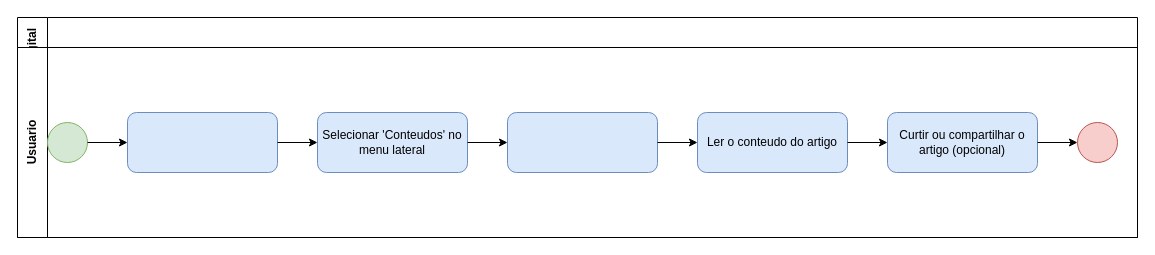
Image size: 1155x255. Some labels were removed from this diagram. Here are the shapes that lost their labels. From the top down, the centre of each, then its label:
At (202,142): "Fazer login com Gov.br".
At (582,142): "Selecionar um artigo (ex: Coronavirus)".
